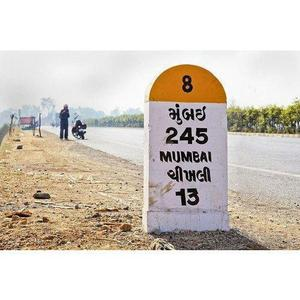kmstone: (144, 59, 230, 231)
